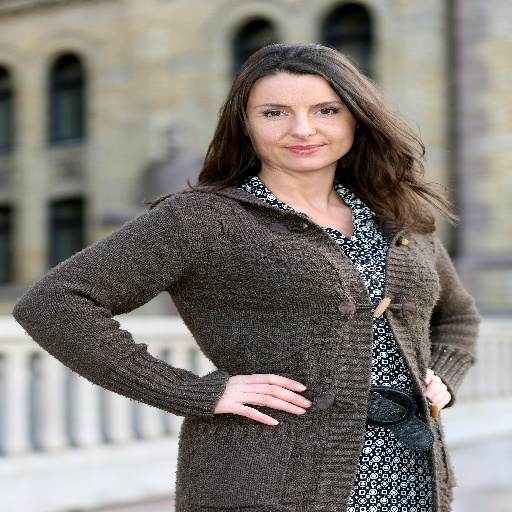hand: (211, 373, 326, 427), (423, 366, 453, 418)
